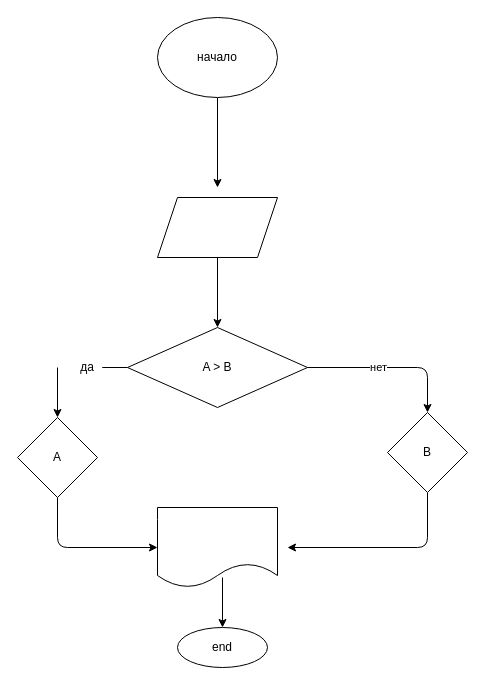
The diagram is 485 pixels wide and 685 high, and some of its shapes have lost their labels. Here are the shapes that lost their labels. From the top down, the centre of each, then its label:
At pixel 217 227: "определить A B".
At pixel 217 547: "вывести на экран".
